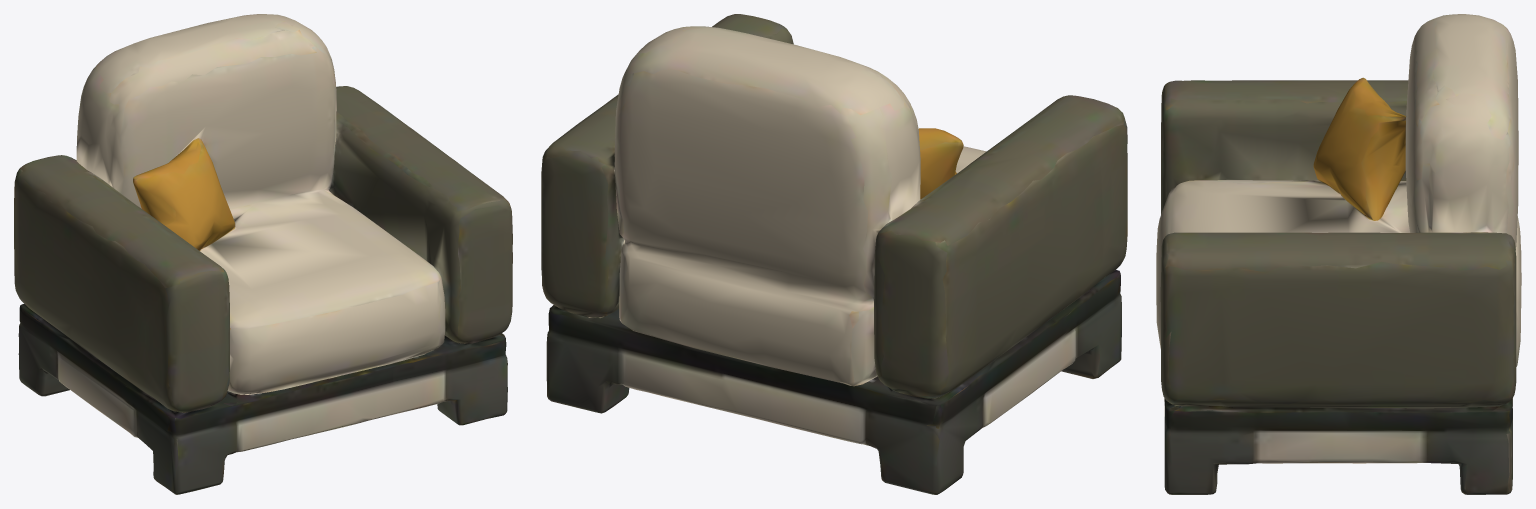
The model's file is armchair.glb.
The picture shows the model from 3 angles, left to right: view 1: azimuth 30°, elevation 25°; view 2: azimuth 150°, elevation 25°; view 3: azimuth 270°, elevation 25°; orthographic projection. The views are drawn at different scales.
Parts seen in each view (by area): view 1: geometry_0; view 2: geometry_0; view 3: geometry_0.
Part boxes in pixels (x1,y1,x2,y2): geometry_0: (14, 14, 512, 494); geometry_0: (541, 14, 1127, 494); geometry_0: (1156, 14, 1521, 494).
Size of the model in its own units: 1 by 0.8906 by 0.8265.
1 material, 1 textured.
